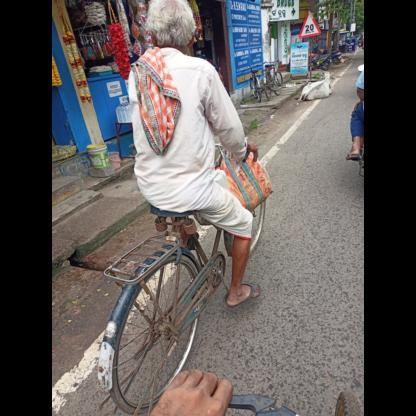Bicycle: (56, 134, 286, 416)
